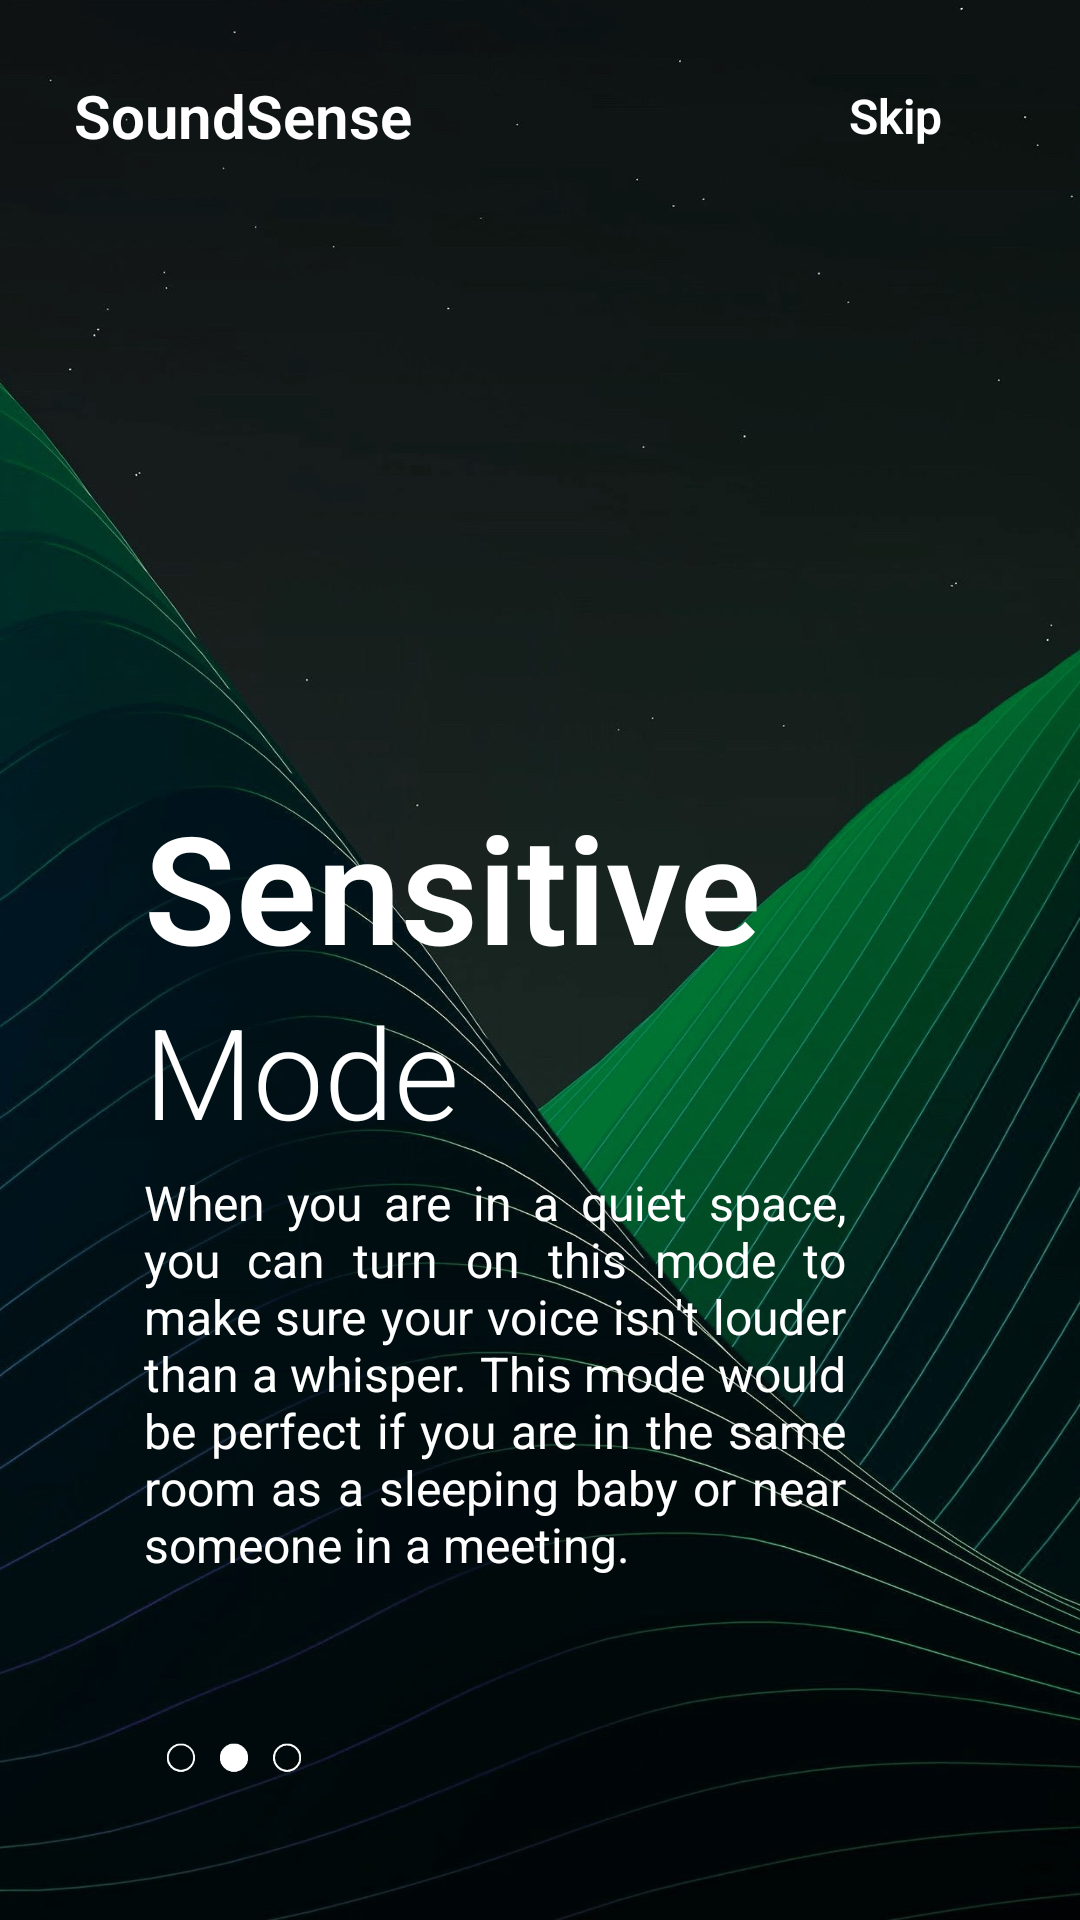

Locate icon controls on the screen. Image size 1080 x 1920, boxes as (x1, y1, x2, y2).
tab: (167, 1743, 248, 1772)
